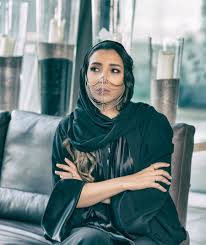middle_eastern_Female: (83, 44, 133, 109)
